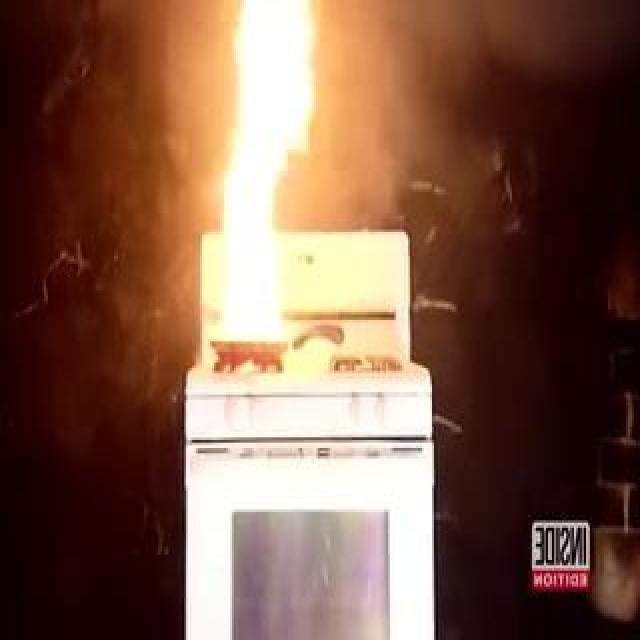Fire: (189, 3, 321, 357)
